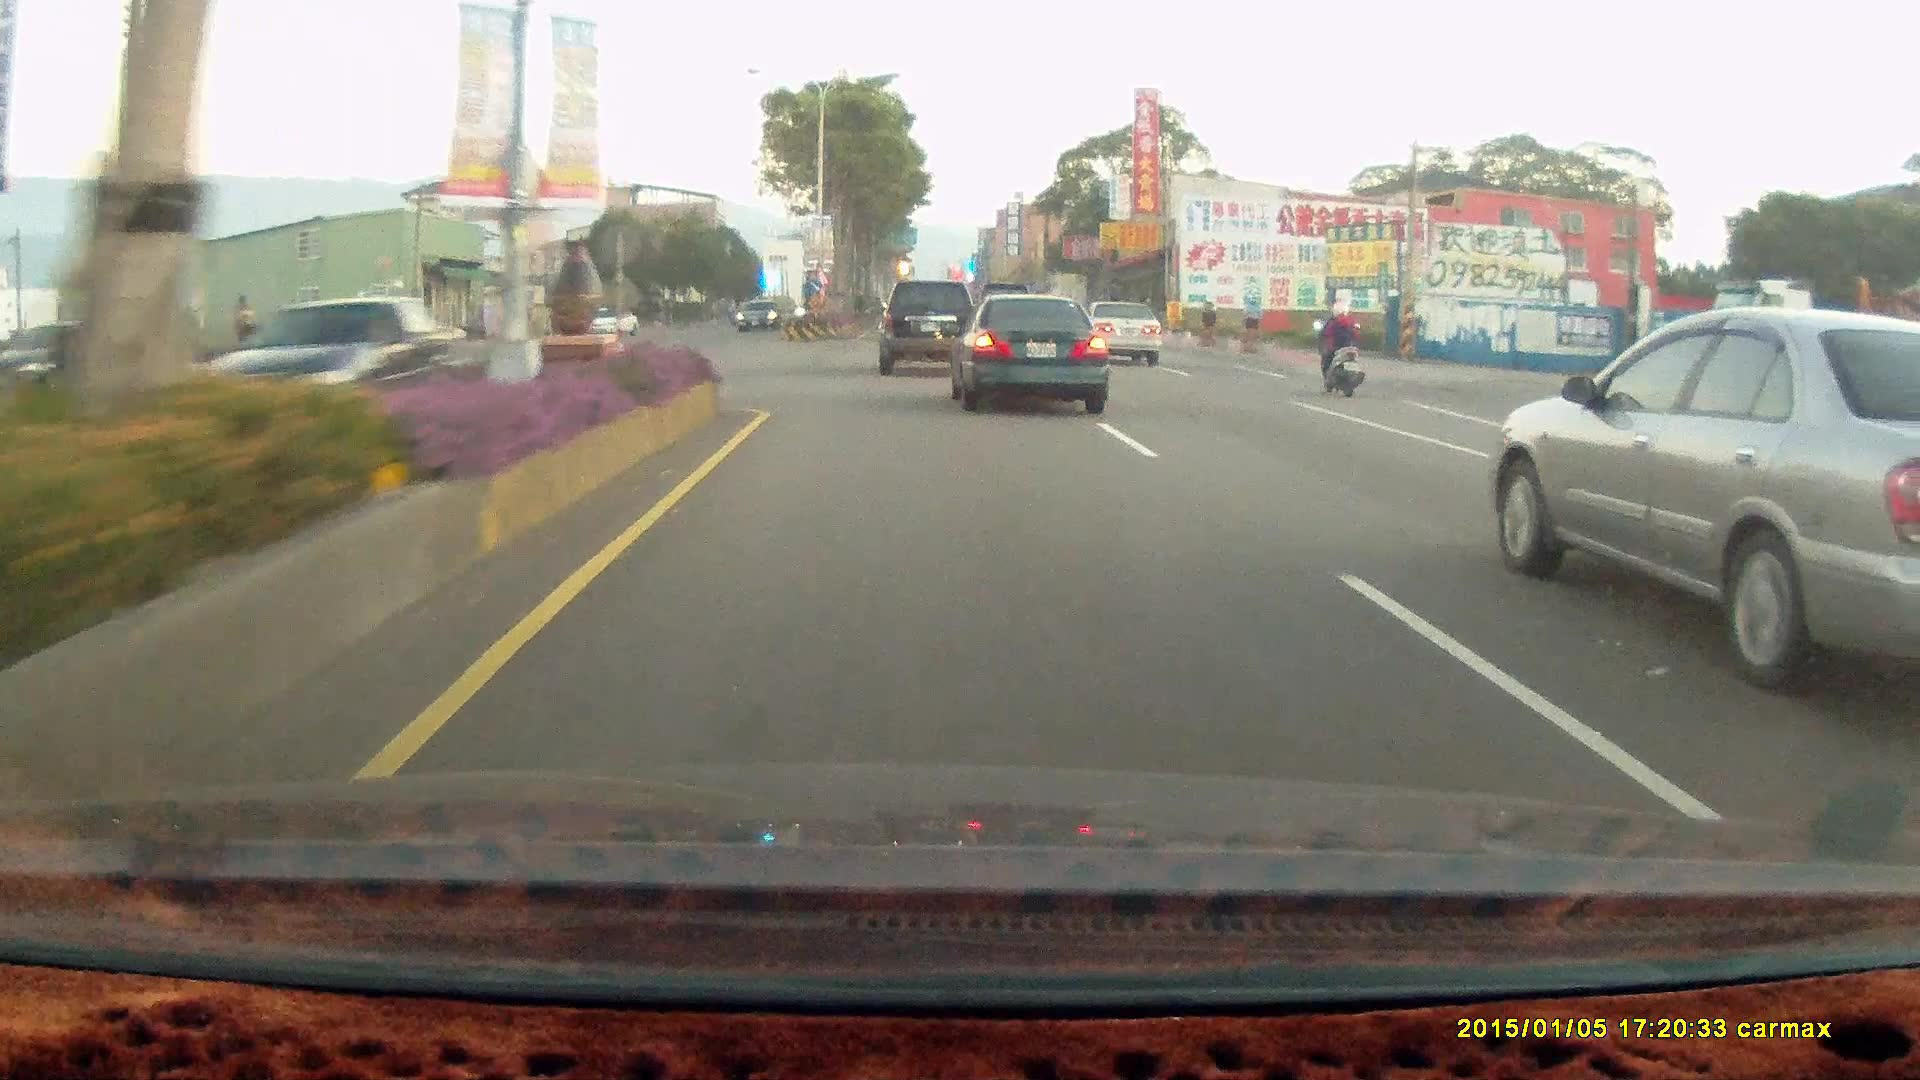rider: (1301, 289, 1374, 404), (1309, 296, 1365, 393)
vehicle: (1491, 302, 1920, 687), (179, 296, 474, 436), (185, 298, 483, 435), (938, 291, 1101, 410), (957, 296, 1117, 416), (880, 275, 983, 375), (0, 323, 126, 400), (877, 278, 977, 375), (1078, 296, 1164, 365), (1078, 296, 1163, 364), (735, 297, 784, 335), (584, 305, 639, 336), (734, 296, 780, 329)
